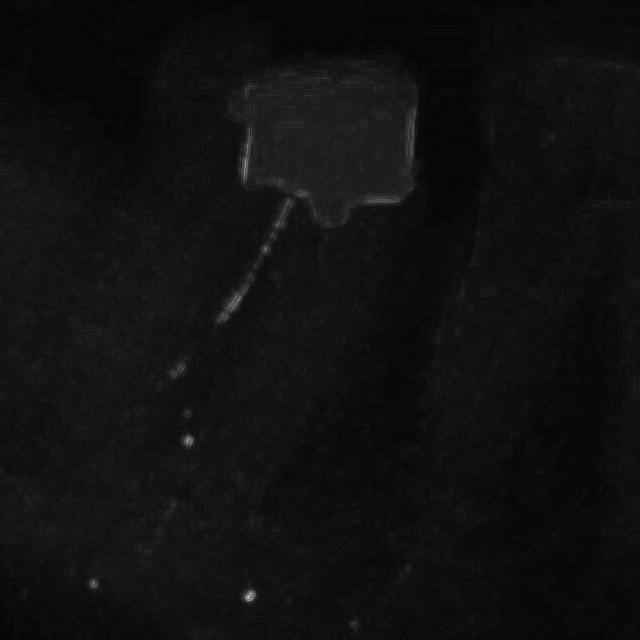Class 2- incomplete endodontic treatment: (69, 24, 439, 540)
